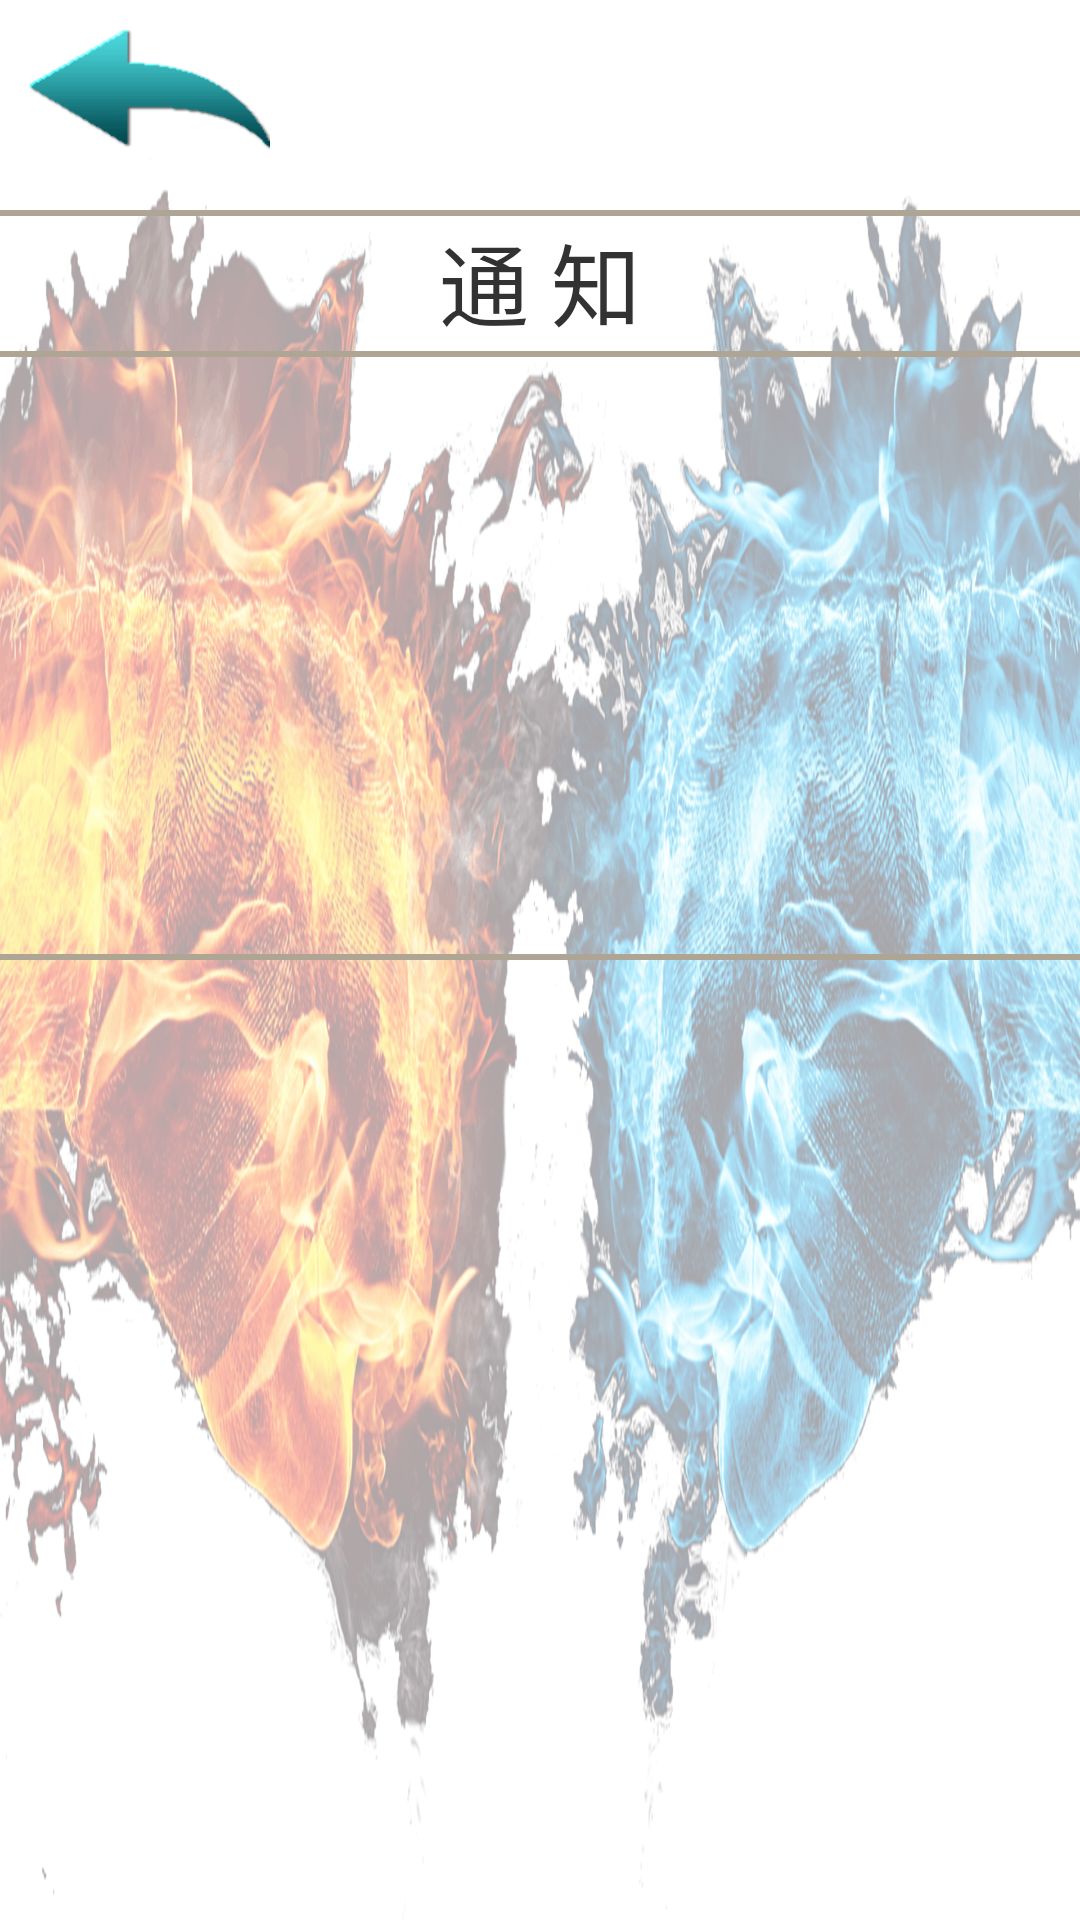

Icon bounding boxes for this 1080px×1920px phone screenshot, format region(x1, y1, x2, y2):
pageback: region(30, 30, 270, 149)
